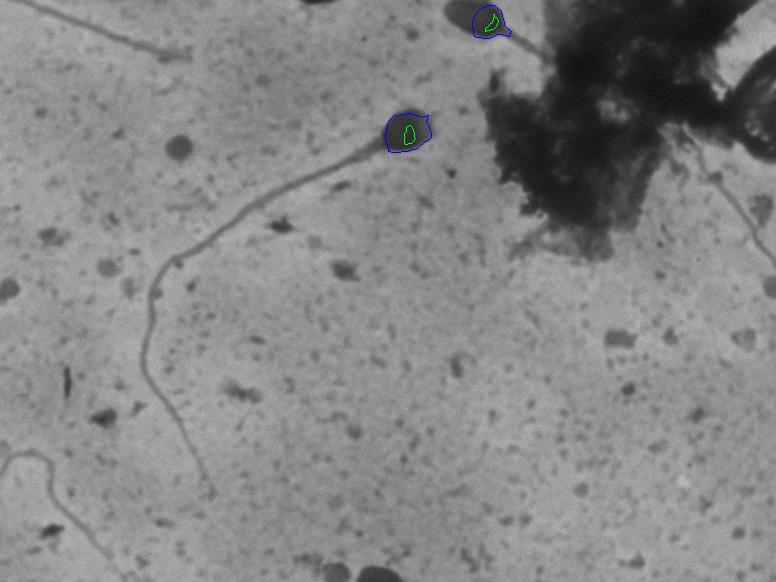Abnormal: (130, 95, 453, 508)
